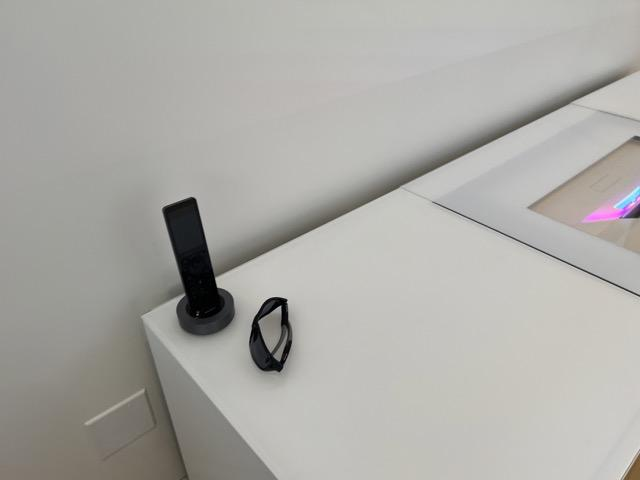Sunglasses: (250, 295, 293, 372)
